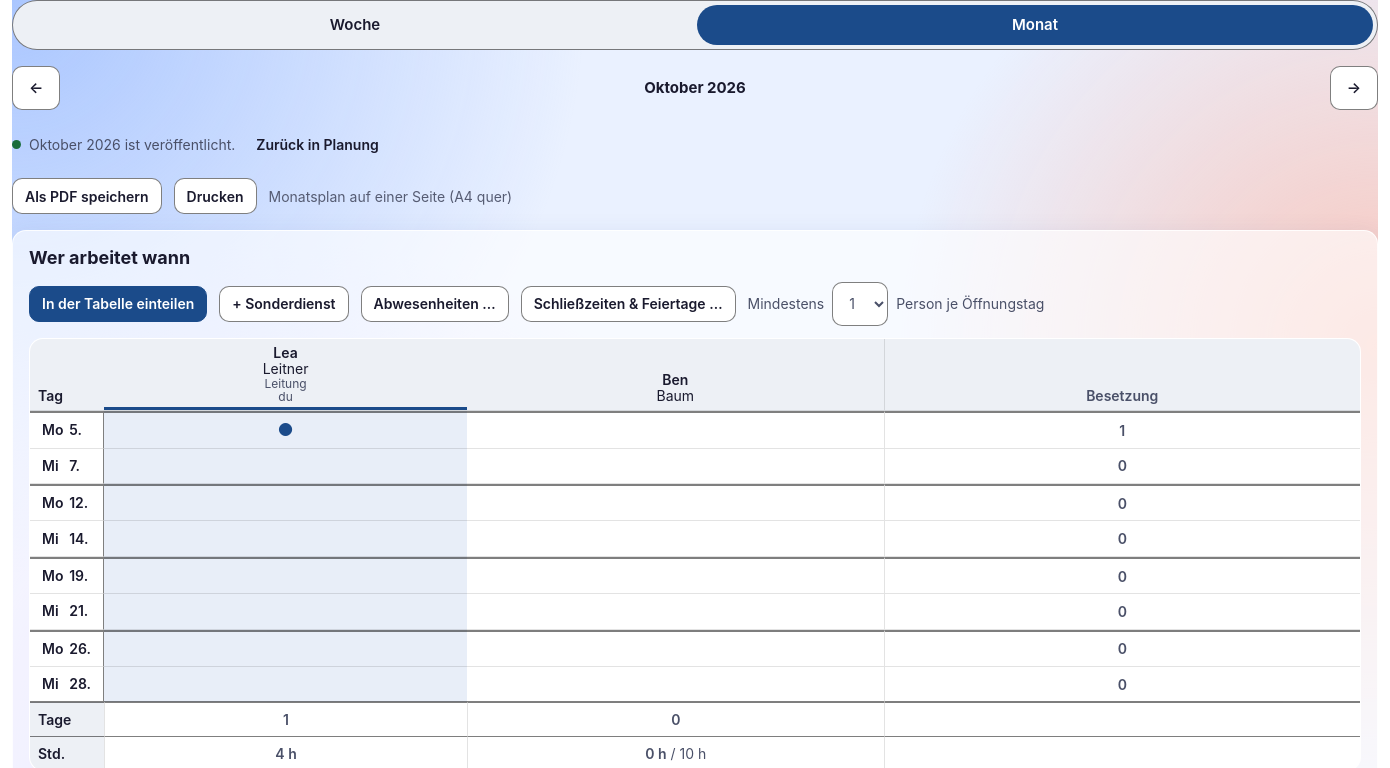
Test case: Einsatz-Matrix bearbeiten (Monat) › Ziehen mit der Maus teilt mehrere Tage ein
The width and height of the screenshot is (1390, 768).
Click the button "In der Tabelle einteilen" at (118, 304), box x1=29 y1=286 x2=207 y2=322
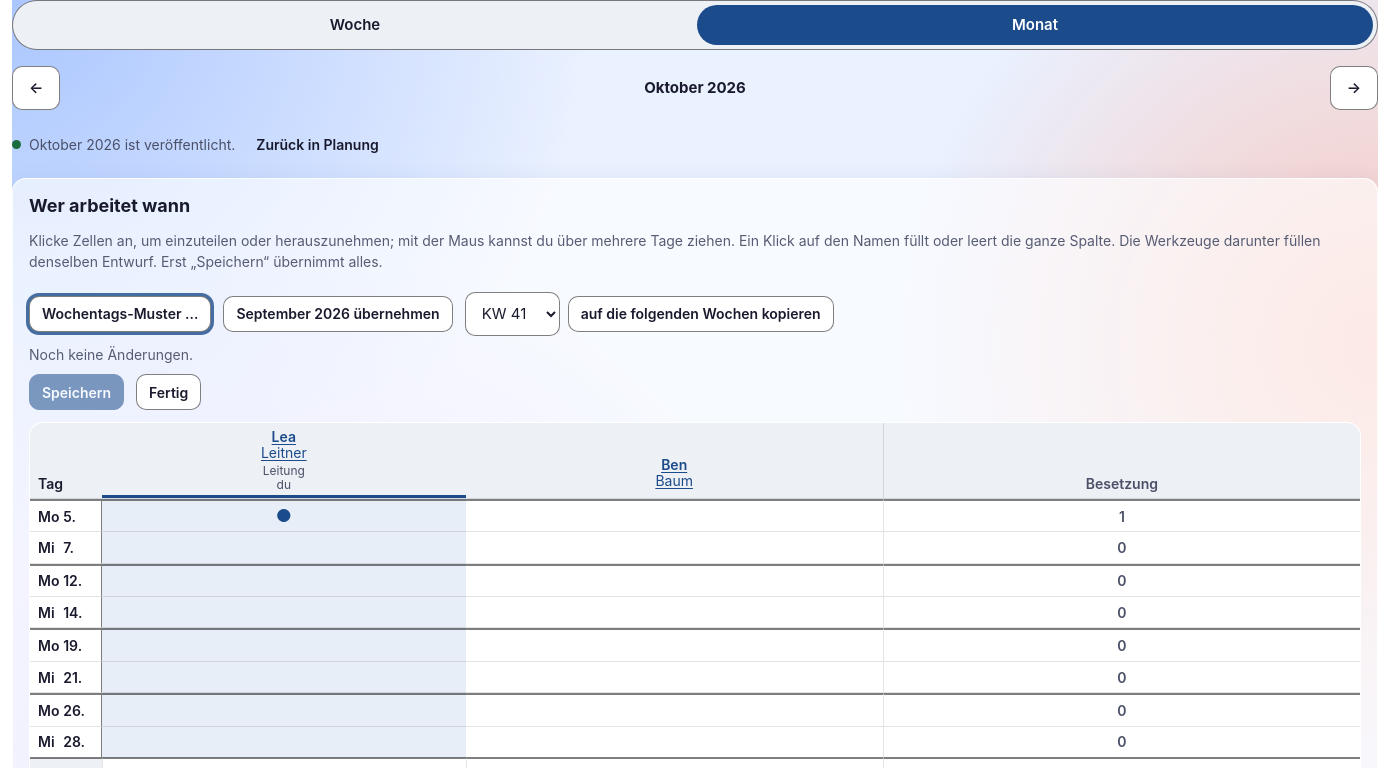
Press the mouse on the button named "Ben Baum, Mo 5." at (674, 516), box x1=466 y1=501 x2=883 y2=531
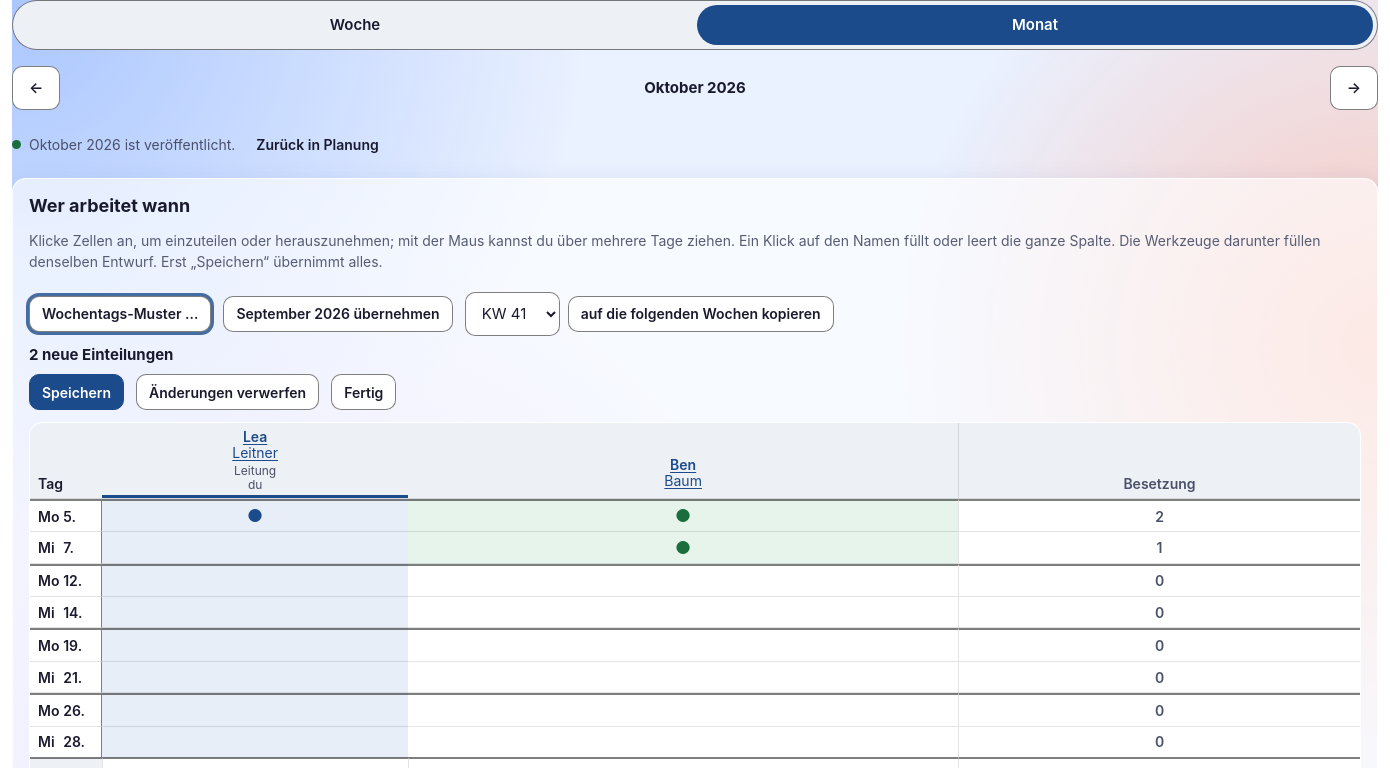
Now the text "2 neue Einteilungen" is shown, box x1=29 y1=344 x2=174 y2=364
